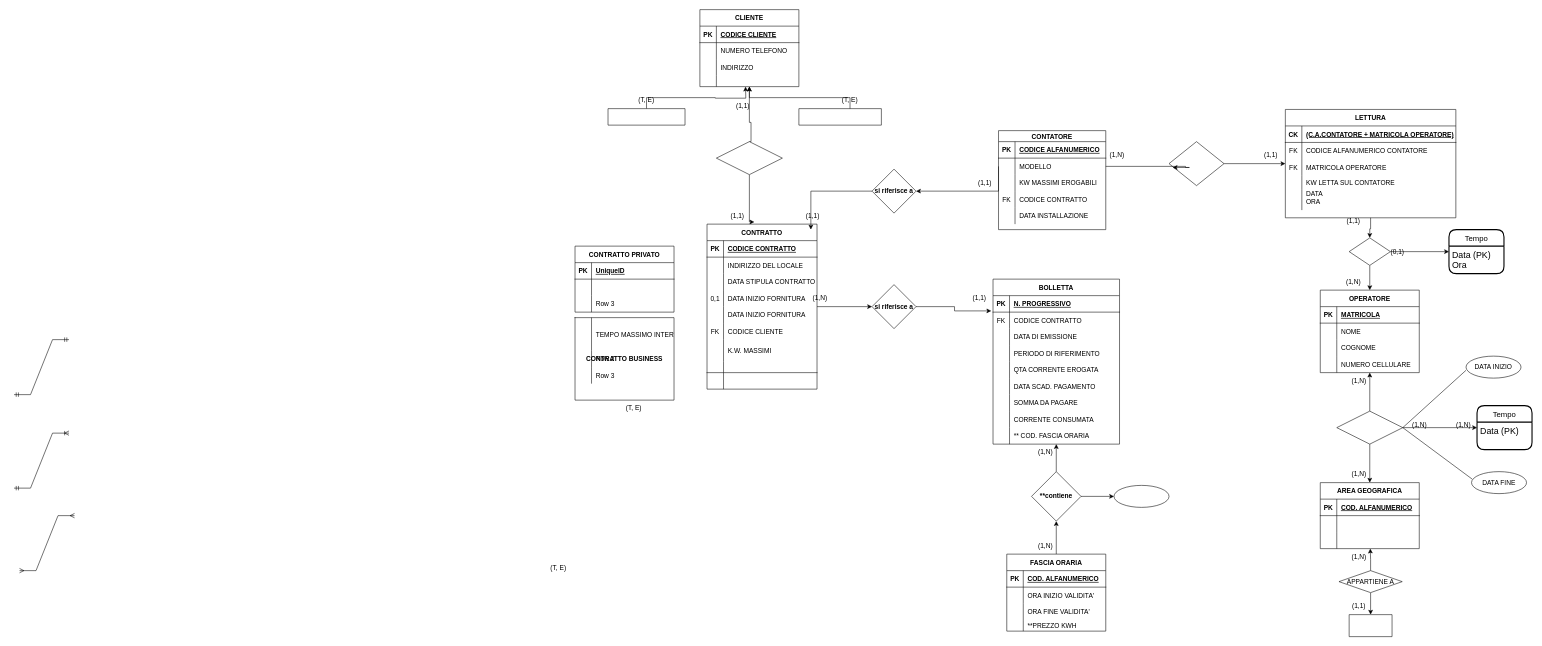
The diagram is 1542 pixels wide and 646 high, and some of its shapes have lost their labels. The centre of each missing label's shape, as x and y in pixels:
"**LAVORA IN" belongs at pixel 1369 427.
"CITTA'" belongs at pixel 1370 625.
"CLIENTE BUSINESS" belongs at pixel 839 116.
"CLIENTE PRIVATO" belongs at pixel 646 116.
"CONSUMO" belongs at pixel 1141 496.
"effettua" belongs at pixel 1369 251.
"Registra" belongs at pixel 1196 163.
"STIPULA" belongs at pixel 749 158.
